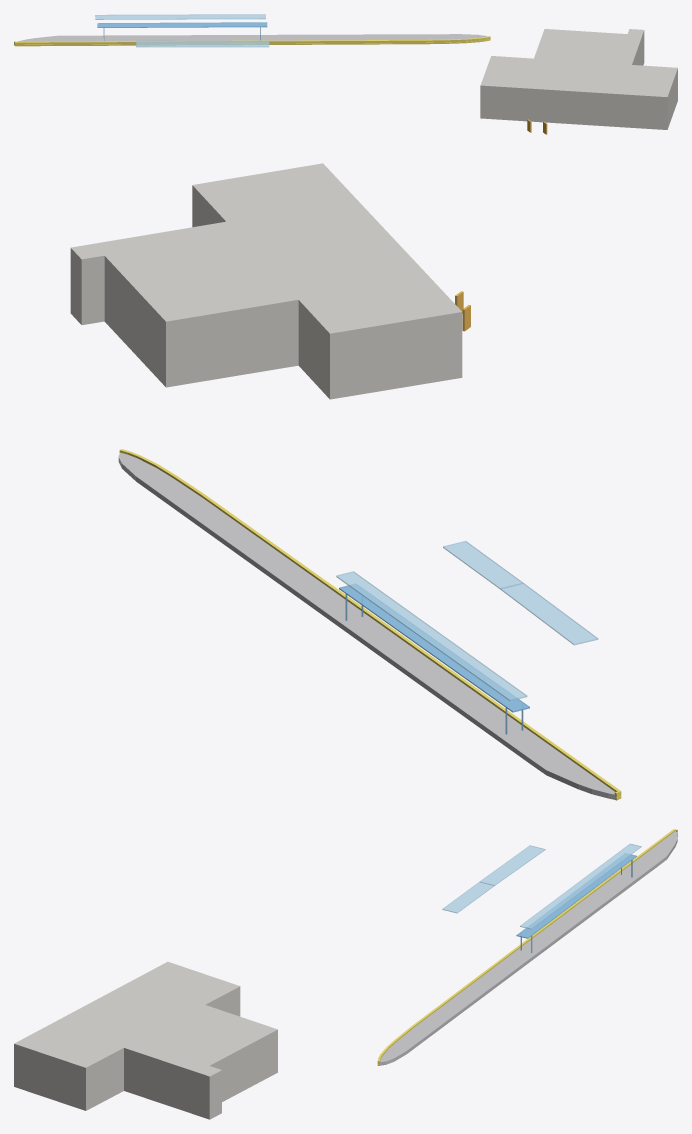
File: 8507062-muri-bei-bern.glb
3 views of the same model, one above another, from view 1: azimuth 30°, elevation 25°; view 2: azimuth 150°, elevation 25°; view 3: azimuth 270°, elevation 25° (orthographic). The views are drawn at different scales.
Visible parts, largest first — view 1: building_part@x, platform_surface@0, boarding_edge@0, roof@0, shelter@0; view 2: building_part@x, platform_surface@0, roof@0, shelter@0, boarding_edge@0; view 3: building_part@x, platform_surface@0, roof@0, shelter@0, boarding_edge@0.
Part boxes in pixels (x1,y1,x2,y2): building_part@x: (480,29,677,129); platform_surface@0: (16,34,487,41); boarding_edge@0: (14,36,490,46); roof@0: (95,14,269,47); shelter@0: (97,22,267,40); building_part@x: (70,163,462,399); platform_surface@0: (118,452,615,799); roof@0: (336,541,598,701); shelter@0: (339,584,529,734); boarding_edge@0: (119,449,621,800); building_part@x: (14,961,277,1119); platform_surface@0: (379,831,677,1065); roof@0: (442,843,641,929); shelter@0: (516,853,636,952); boarding_edge@0: (377,829,677,1065).
Bounding box in the file's own units: 101 × 7.55 × 97.62.
